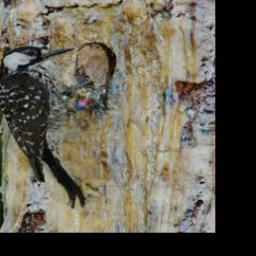Woodpecker: (0, 45, 106, 207)
